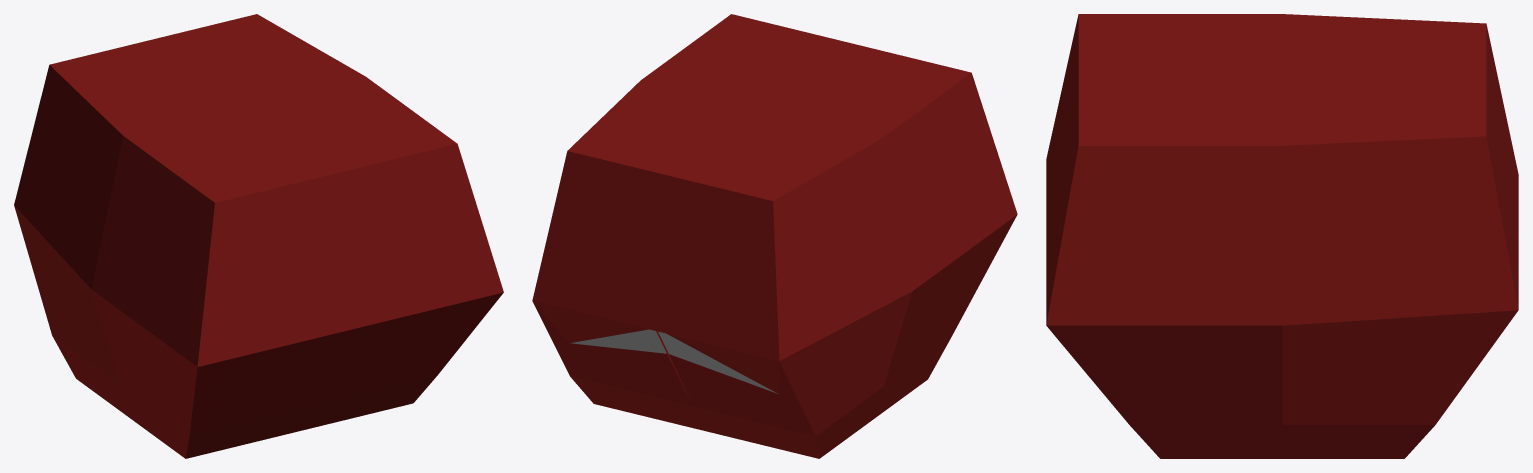
The model's file is Body.002.obj.
The picture shows the model from 3 angles, left to right: view 1: azimuth 30°, elevation 25°; view 2: azimuth 150°, elevation 25°; view 3: azimuth 270°, elevation 25°; orthographic projection. The views are drawn at different scales.
Visible parts, largest first — view 1: Link_UpperBody_C; view 2: Link_UpperBody_C; view 3: Link_UpperBody_C.
Part boxes in pixels (box(x1,y1,x2,y2)): Link_UpperBody_C: box(14, 14, 503, 458); Link_UpperBody_C: box(532, 14, 1017, 458); Link_UpperBody_C: box(1046, 14, 1518, 458).
Bounding box in the file's own units: 0.2533 × 0.2248 × 0.3035.
